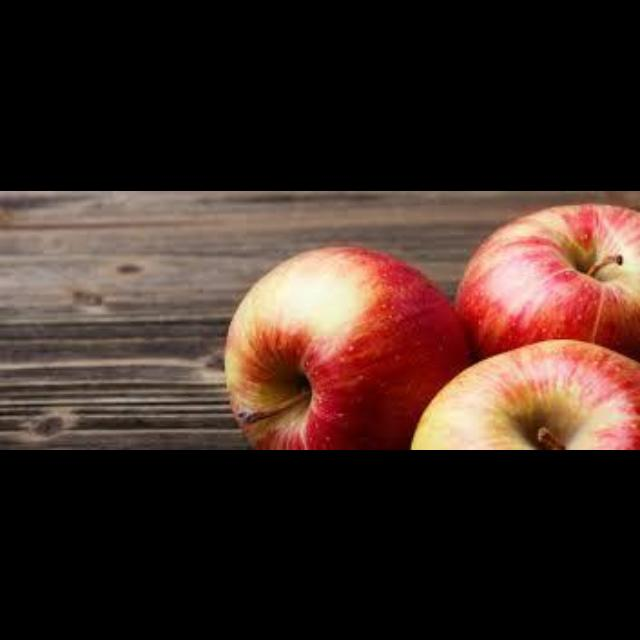apple: (227, 246, 470, 447), (455, 203, 638, 357), (410, 339, 638, 447)
